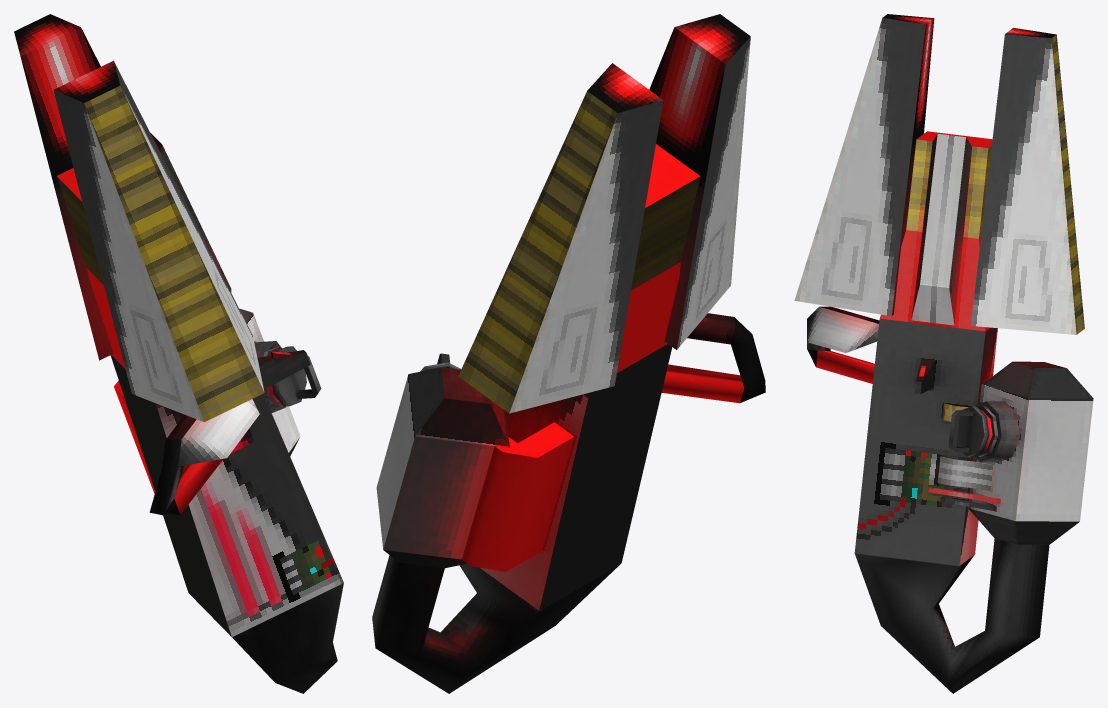
The model's file is exo_red.gltf.
3 renders of one model, left to right at view 1: azimuth 30°, elevation 25°; view 2: azimuth 150°, elevation 25°; view 3: azimuth 270°, elevation 25°, orthographic. The views are drawn at different scales.
Visible parts, largest first — view 1: sci-fi weapon.001; view 2: sci-fi weapon.001; view 3: sci-fi weapon.001.
Part boxes in pixels (<box>): sci-fi weapon.001: <box>14,14,343,693</box>; sci-fi weapon.001: <box>372,14,765,693</box>; sci-fi weapon.001: <box>794,14,1093,693</box>.
Size of the model in its own units: 0.4348 by 0.9489 by 0.4398.
Materials: 1 (1 with a texture image).
